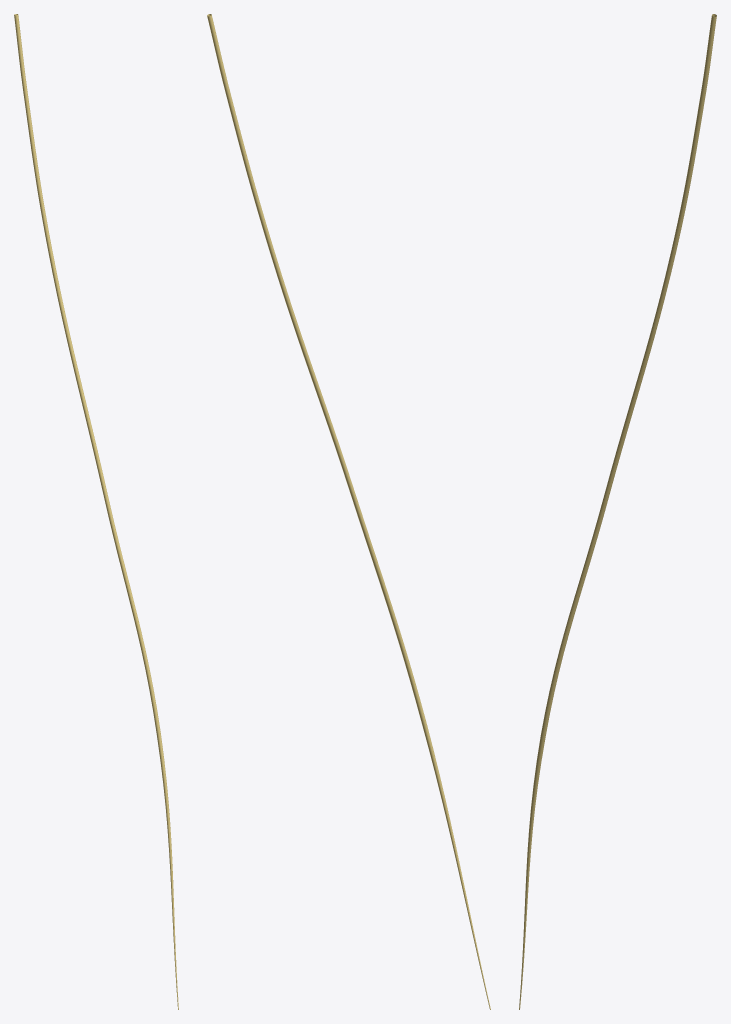
The picture shows the model from 3 angles, left to right: view 1: azimuth 90°, elevation 25°; view 2: azimuth 150°, elevation 25°; view 3: azimuth 270°, elevation 25°; orthographic projection. The views are drawn at different scales.
Visible parts, largest first — view 1: ZA_7b9329321e881790; view 2: ZA_7b9329321e881790; view 3: ZA_7b9329321e881790.
Part boxes in pixels (x1,y1,x2,y2): ZA_7b9329321e881790: [14, 14, 178, 1009]; ZA_7b9329321e881790: [207, 14, 490, 1009]; ZA_7b9329321e881790: [519, 14, 716, 1009].
Bounding box in the file's own units: 0.0468 × 0.2348 × 0.0385.
